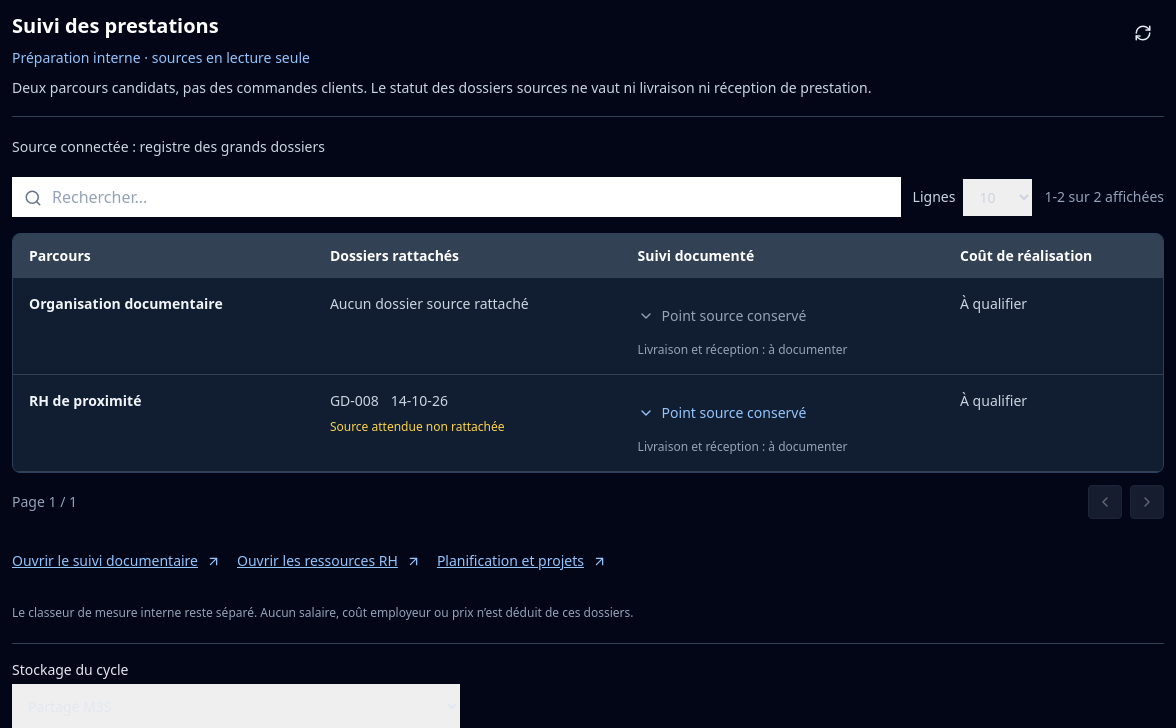
renders FR controls and dates without inventing receipt or costs
Expected: the heading "Suivi des prestations" is shown, [12,12,219,39]
Click the button with aria-label "Point source conservé · RH de proximité" at {"x": 722, "y": 413}, box [638,391,806,435]
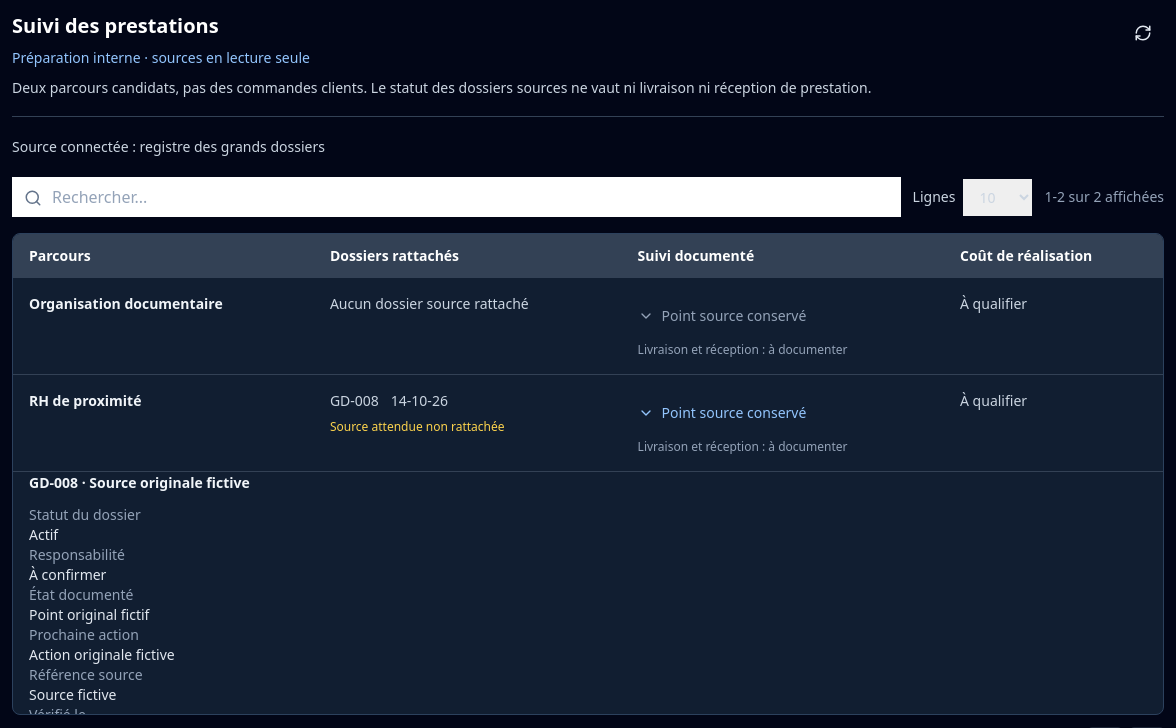
Expected: the text "14-10-26" is shown, [391,391,448,410]
Expected: the text "Action originale fictive" is shown, [29,645,175,664]
Click the button with aria-label "Point source conservé · RH de proximité" at {"x": 722, "y": 413}, box [638,391,806,435]
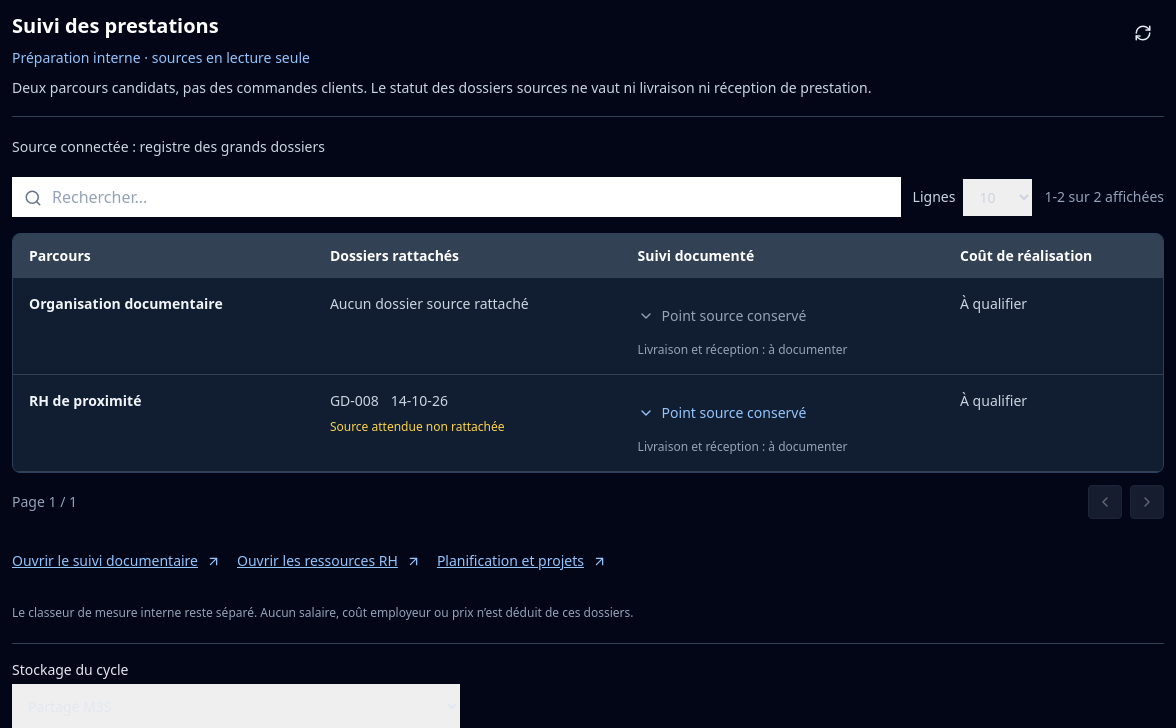
Expected: the text "Action originale fictive" is gone
